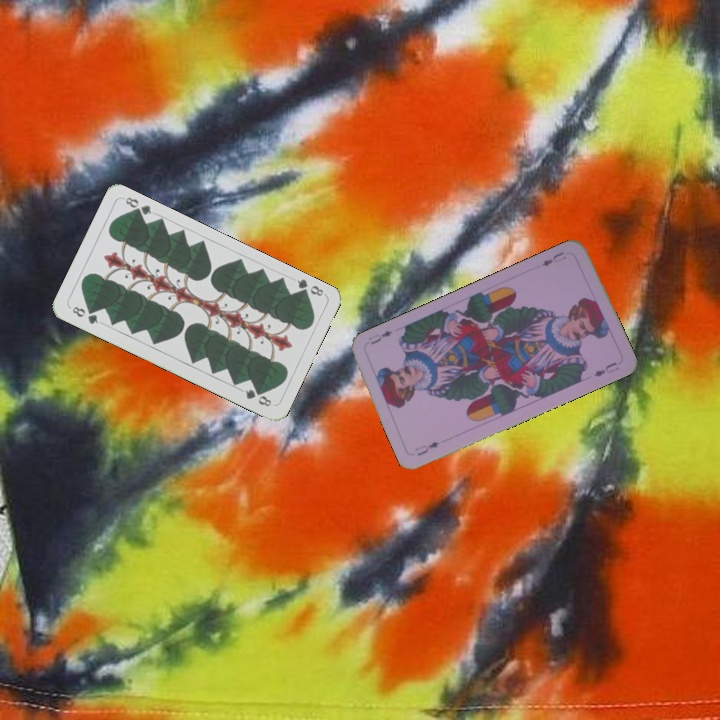EU: (411, 437, 442, 458), (537, 247, 566, 269)
G8: (66, 302, 101, 327), (293, 275, 326, 300)
